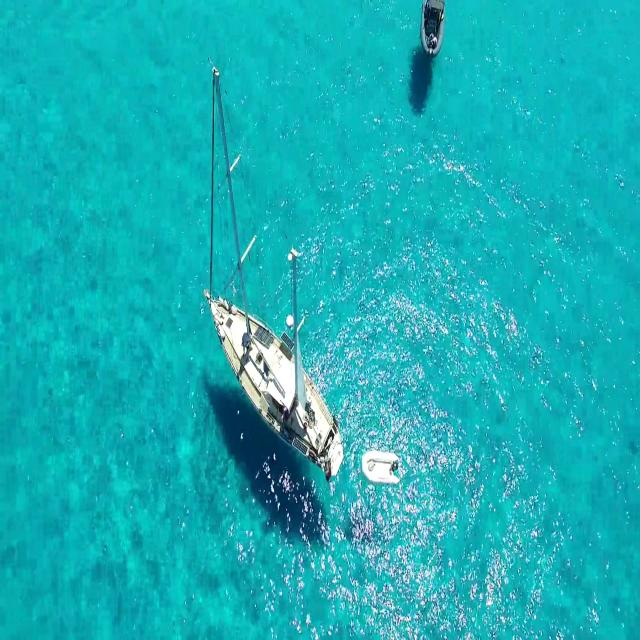ship: (206, 287, 342, 537)
